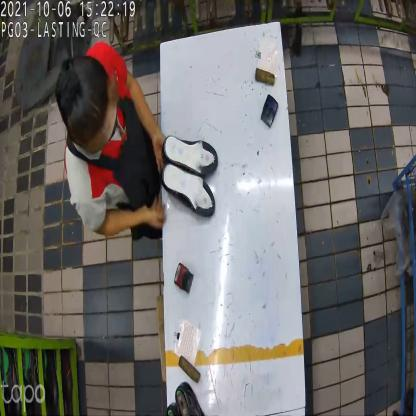shoes: (161, 131, 217, 219)
stamp: (175, 262, 196, 295), (259, 95, 278, 129)
